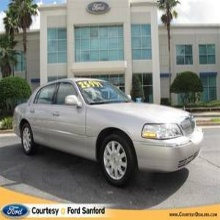no damage: (11, 75, 204, 187)
